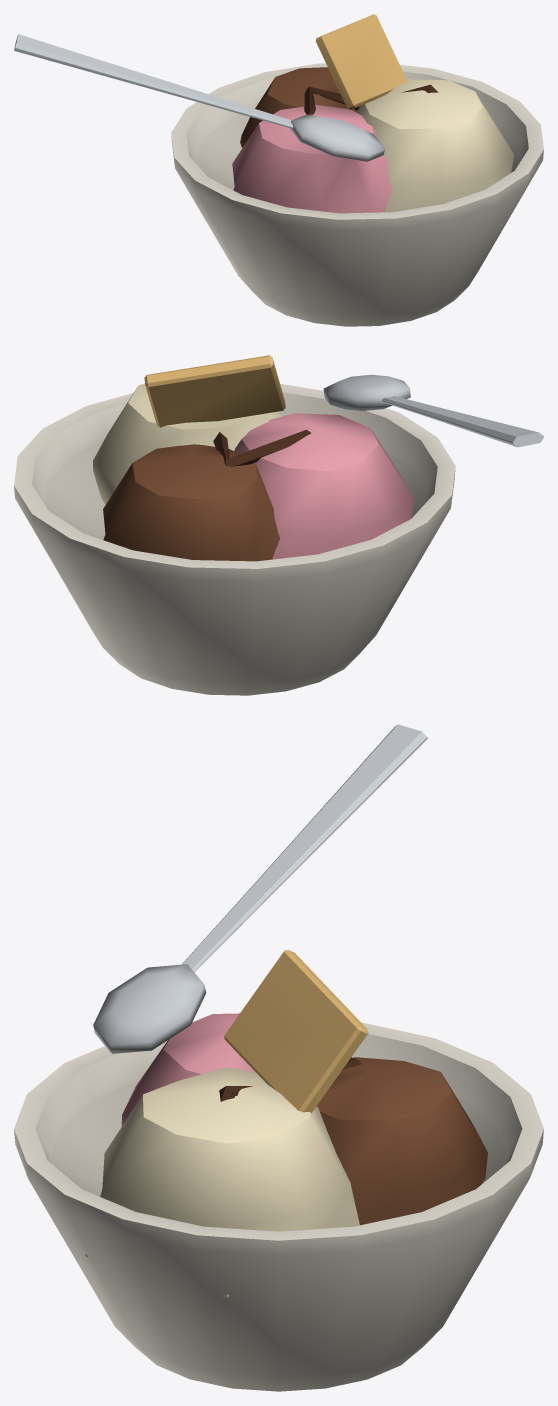
The model's file is iceCream.glb.
The picture shows the model from 3 angles, top to bottom: view 1: azimuth 30°, elevation 25°; view 2: azimuth 150°, elevation 25°; view 3: azimuth 270°, elevation 25°; orthographic projection. The views are drawn at different scales.
Visible parts, largest first — view 1: iceCream; view 2: iceCream; view 3: iceCream.
Boxes of the visible parts, left/top/right/bottom form: iceCream: left=14, top=14, right=543, bottom=326; iceCream: left=14, top=355, right=543, bottom=695; iceCream: left=14, top=724, right=543, bottom=1391.
Size of the model in its own units: 0.1759 by 0.1018 by 0.123.
